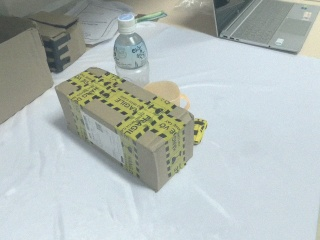bottle: (113, 13, 150, 88)
box: (56, 68, 194, 190), (1, 16, 53, 131), (25, 11, 87, 74)
cup: (143, 80, 191, 111)
toy_car: (192, 117, 209, 145)
